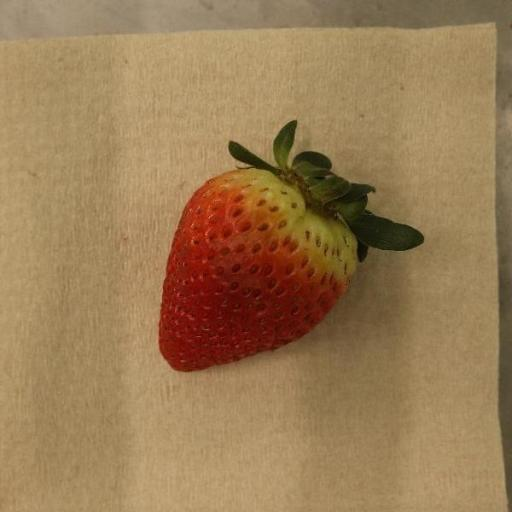Strawberry: (159, 121, 426, 374)
